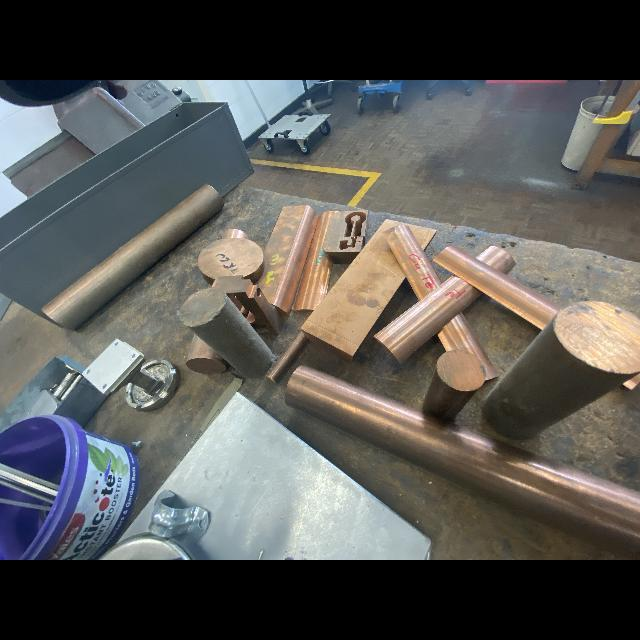Copper: (284, 365, 639, 559), (42, 185, 224, 329), (482, 301, 640, 438), (300, 219, 437, 363), (433, 244, 563, 330), (374, 275, 483, 364), (180, 288, 276, 378), (254, 204, 319, 317), (292, 210, 340, 312), (382, 225, 443, 300), (211, 275, 283, 336), (422, 350, 486, 418), (437, 313, 499, 382), (198, 238, 264, 285), (322, 210, 369, 264), (266, 331, 307, 383), (186, 336, 227, 374), (477, 245, 516, 272)
